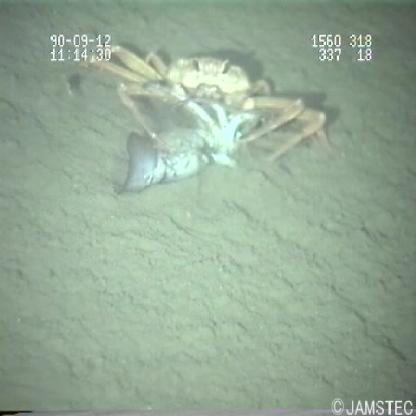Bio: (61, 43, 342, 202)
